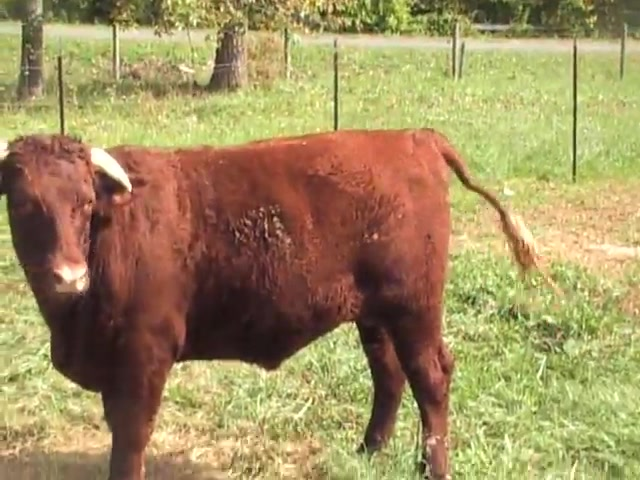cow: (3, 128, 541, 480)
